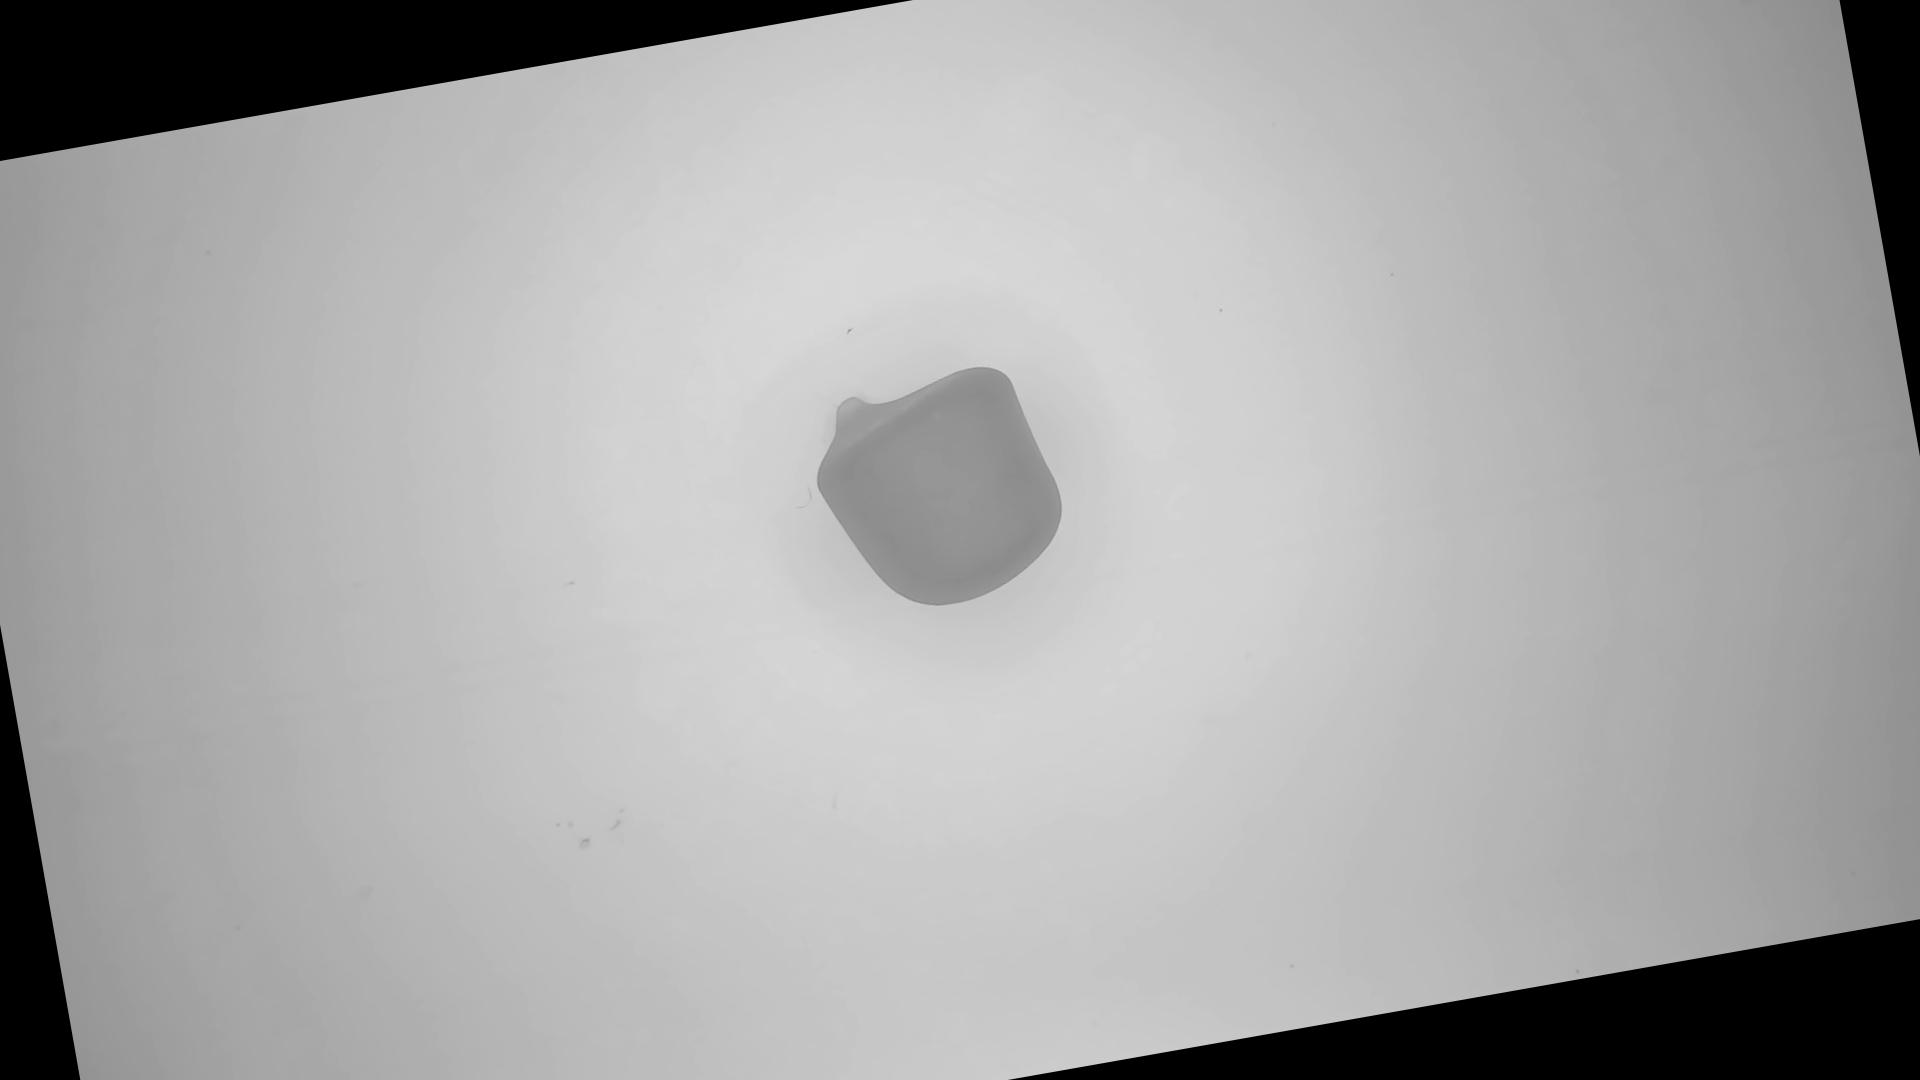abnormal: (798, 351, 1083, 629)
